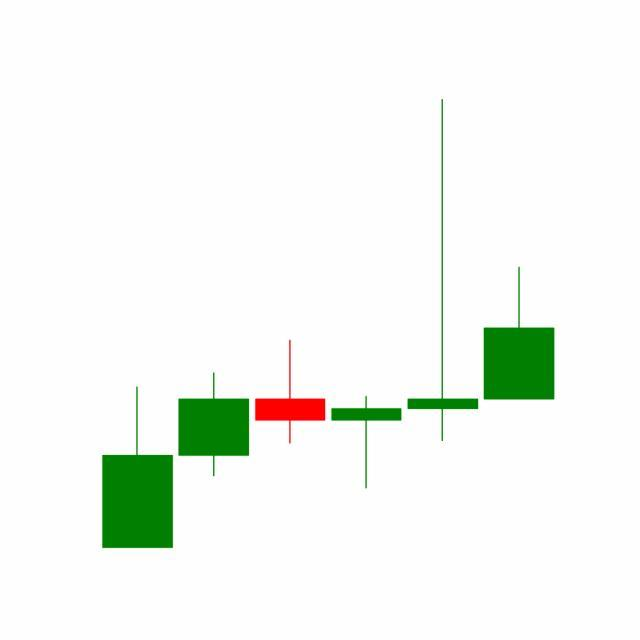Spinning Top: (404, 96, 482, 446)
